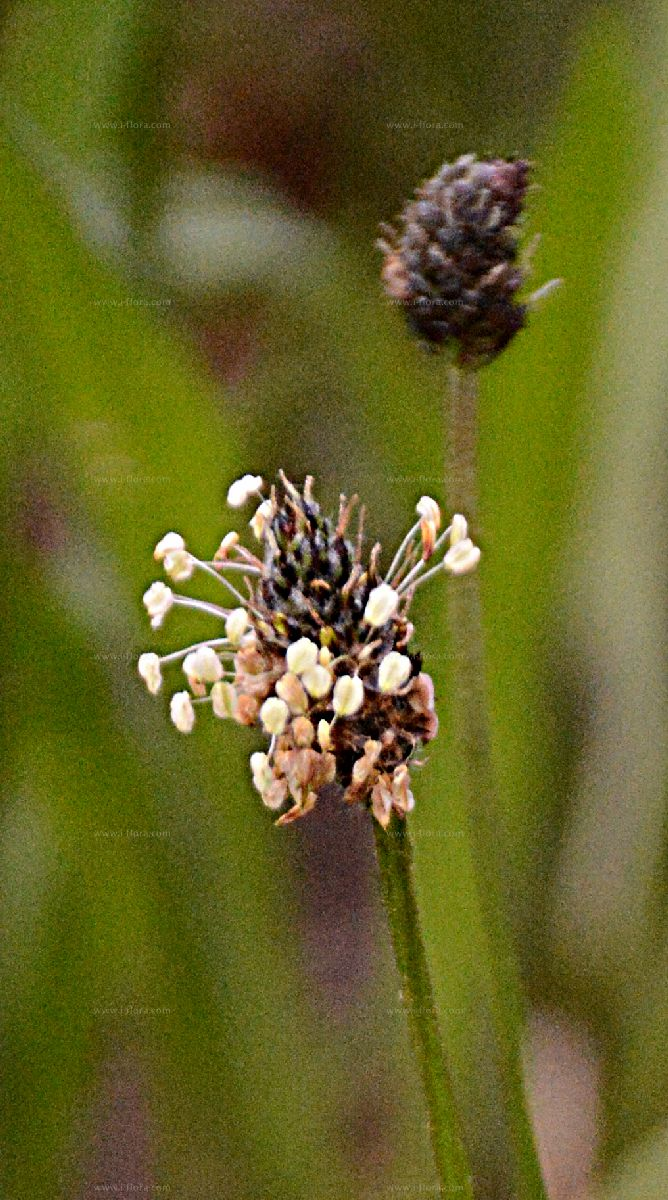buckhorn plantain: (119, 467, 489, 1042)
